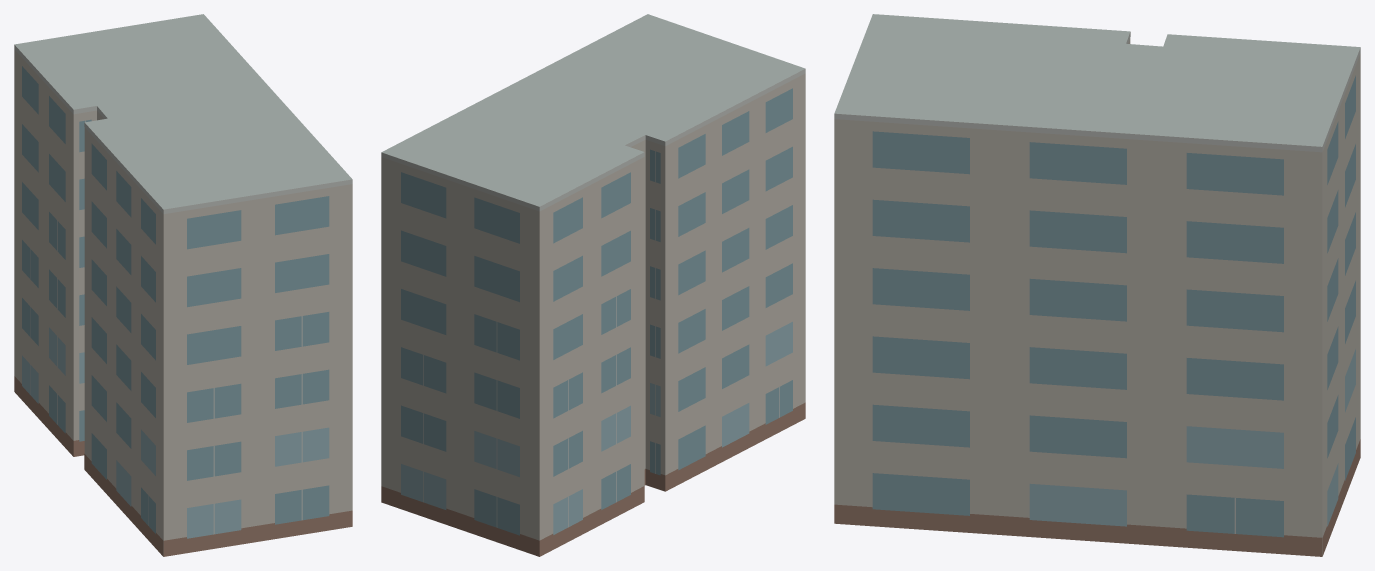
The model's file is survey-upis-32979575.glb.
3 renders of one model, left to right at view 1: azimuth 30°, elevation 25°; view 2: azimuth 150°, elevation 25°; view 3: azimuth 270°, elevation 25°, orthographic. The views are drawn at different scales.
Visible parts, largest first — view 1: survey-upis-32979575.tmp; view 2: survey-upis-32979575.tmp; view 3: survey-upis-32979575.tmp.
Boxes of the visible parts, bbox=[...] form: survey-upis-32979575.tmp: bbox=[14, 14, 352, 556]; survey-upis-32979575.tmp: bbox=[381, 14, 805, 556]; survey-upis-32979575.tmp: bbox=[834, 14, 1360, 556].
Bounding box in the file's own units: 12.73 × 18.3 × 21.3.
